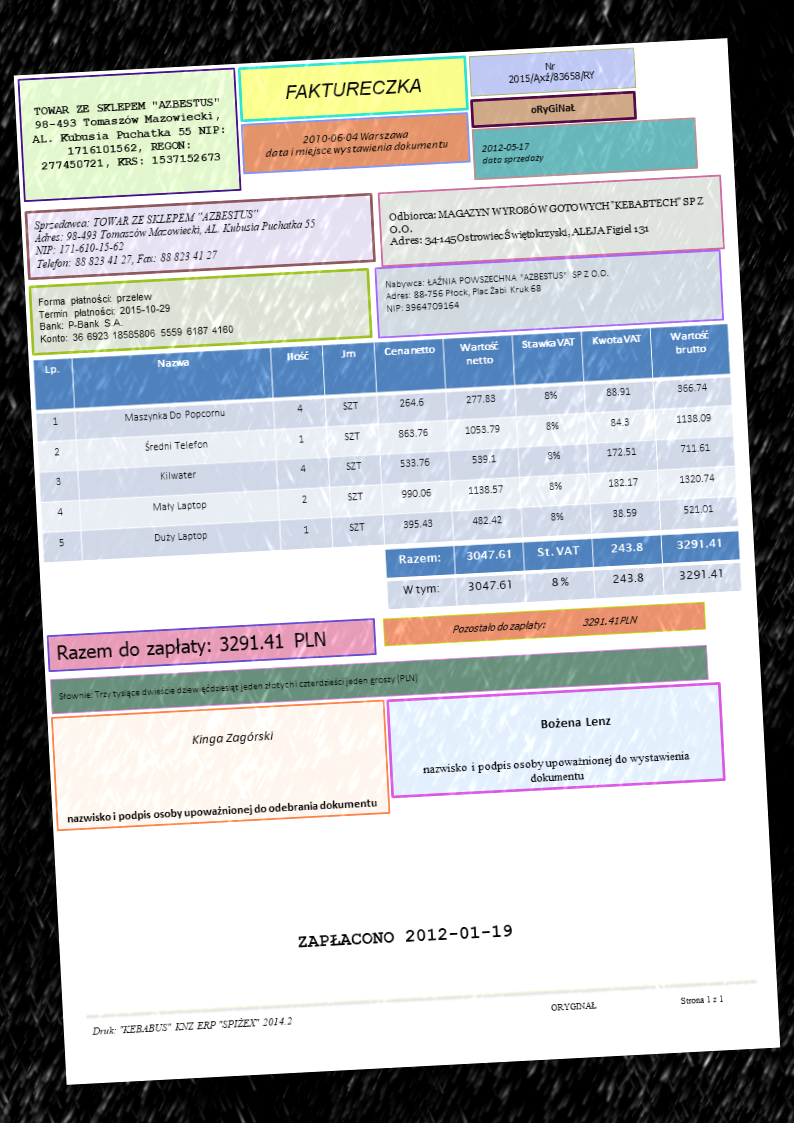Table: (32, 322, 739, 563), (384, 529, 742, 610)
TextBox: (32, 202, 318, 270), (386, 193, 706, 250), (28, 95, 227, 172), (36, 286, 236, 346), (58, 671, 420, 704), (381, 265, 612, 316), (422, 748, 691, 790), (64, 794, 377, 826), (55, 627, 328, 663), (262, 126, 451, 160), (296, 921, 514, 950), (90, 1013, 295, 1039), (450, 611, 640, 638), (283, 74, 424, 102), (549, 992, 725, 1014), (506, 57, 597, 86), (189, 726, 275, 749), (480, 139, 545, 166), (539, 713, 614, 732), (529, 100, 577, 116)
